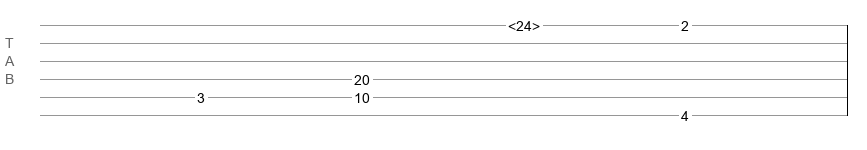10: (354, 90, 370, 100)
2: (681, 18, 689, 28)
20: (354, 72, 370, 82)
3: (197, 90, 205, 100)
4: (681, 108, 689, 118)
harmonic: (508, 18, 540, 28)
